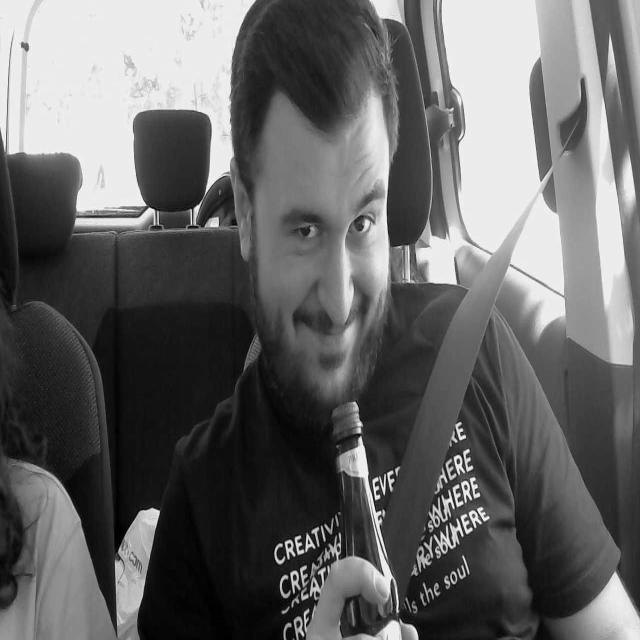Drinking: (283, 367, 428, 639)
Seatbelt: (394, 198, 536, 535)
